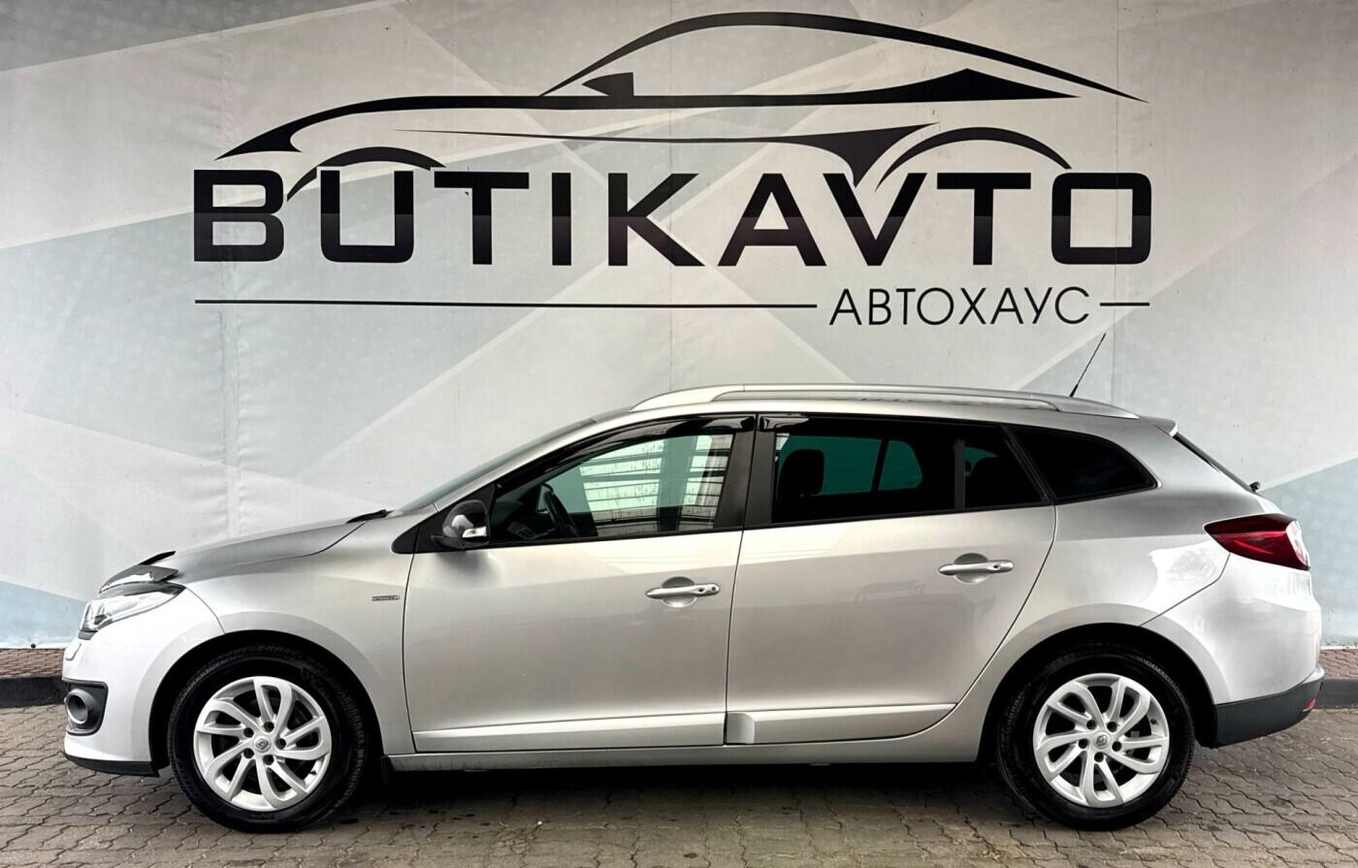Megane_2014-2016: (45, 383, 1324, 822)
